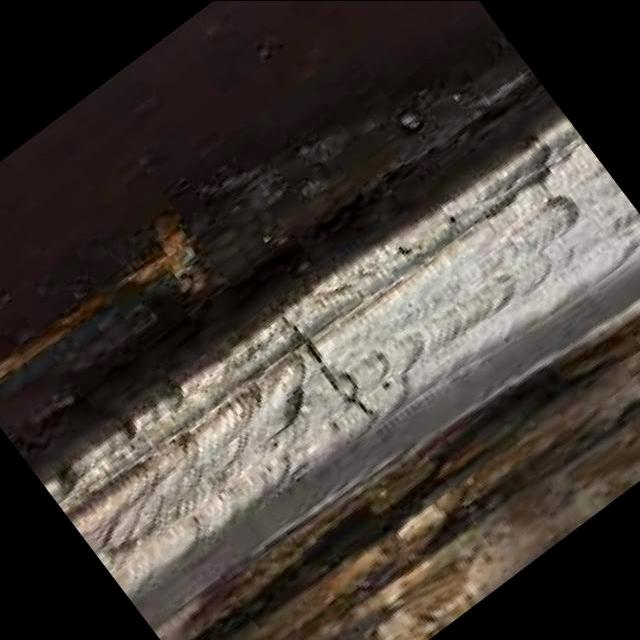defect: (273, 310, 381, 418)
